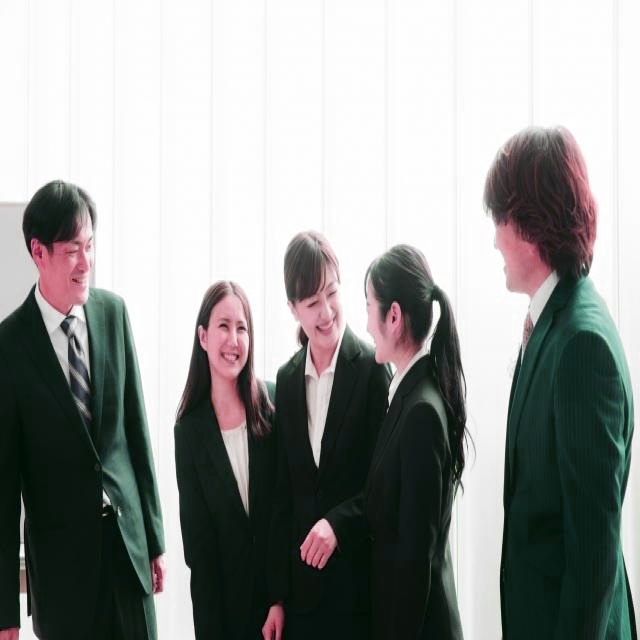Sin_Casco_Mascarrilla: (485, 125, 593, 294), (22, 179, 99, 308), (367, 241, 432, 366), (283, 231, 345, 350), (195, 279, 253, 390)
Sin_Chaleco: (503, 294, 629, 618)
